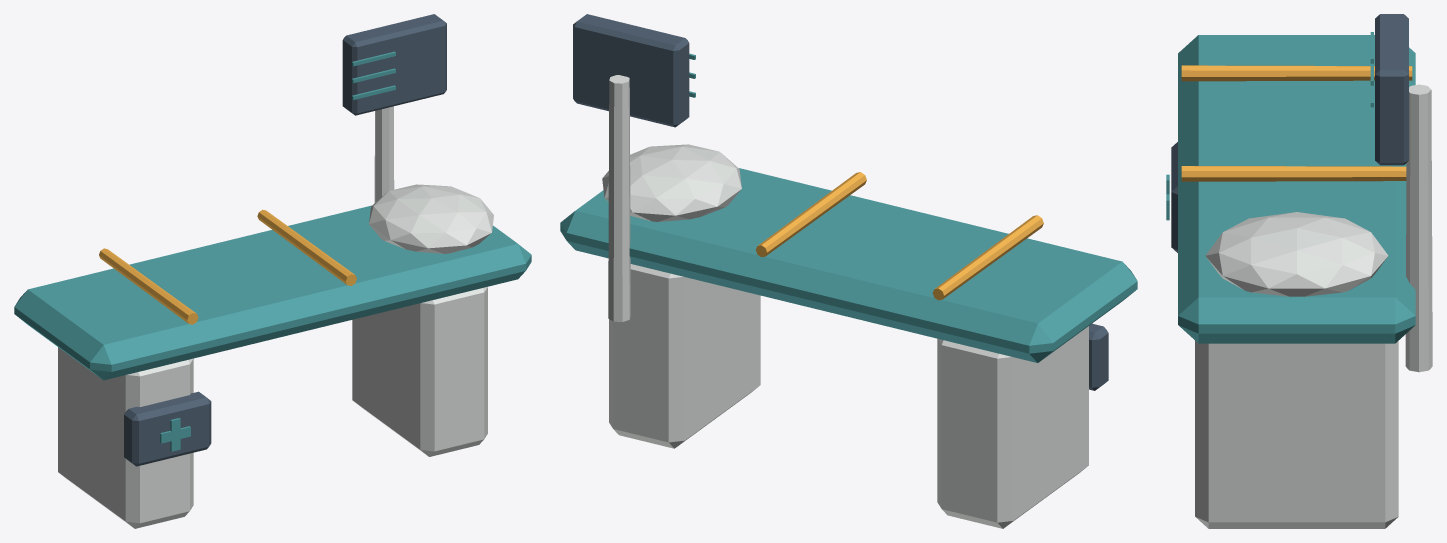
3 renders of one model, left to right at view 1: azimuth 30°, elevation 25°; view 2: azimuth 150°, elevation 25°; view 3: azimuth 270°, elevation 25°, orthographic. The views are drawn at different scales.
Parts seen in each view (by area): view 1: SI-009 Medical restraint and monitor station batched; view 2: SI-009 Medical restraint and monitor station batched; view 3: SI-009 Medical restraint and monitor station batched.
Boxes of the visible parts, x1,y1,x2,y2 form: SI-009 Medical restraint and monitor station batched: [14, 14, 531, 528]; SI-009 Medical restraint and monitor station batched: [560, 14, 1137, 528]; SI-009 Medical restraint and monitor station batched: [1166, 14, 1432, 528].
Bounding box in the file's own units: 1.95 × 1.55 × 0.785.
